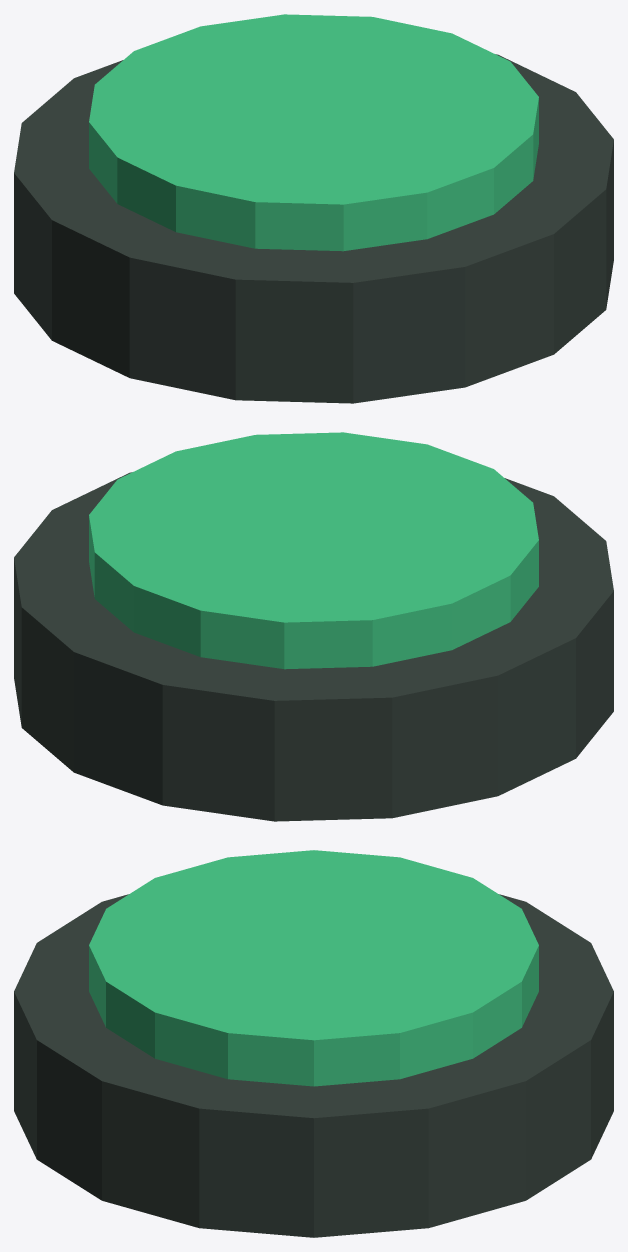
Rendered from signal-green.glb.
The picture shows the model from 3 angles, top to bottom: view 1: azimuth 30°, elevation 25°; view 2: azimuth 150°, elevation 25°; view 3: azimuth 270°, elevation 25°; orthographic projection.
Parts seen in each view (by area): view 1: Signal base, Signal lens; view 2: Signal base, Signal lens; view 3: Signal base, Signal lens.
Boxes of the visible parts, x1,y1,x2,y2 form: Signal base: (14,54,613,403); Signal lens: (89,14,538,251); Signal base: (14,472,613,821); Signal lens: (89,432,538,669); Signal base: (14,894,613,1237); Signal lens: (89,850,538,1086).
Bounding box in the file's own units: 0.2 × 0.061 × 0.2.
